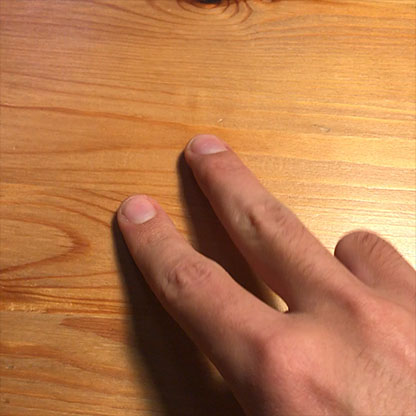fingertip: (180, 125, 234, 170), (114, 185, 162, 233)
